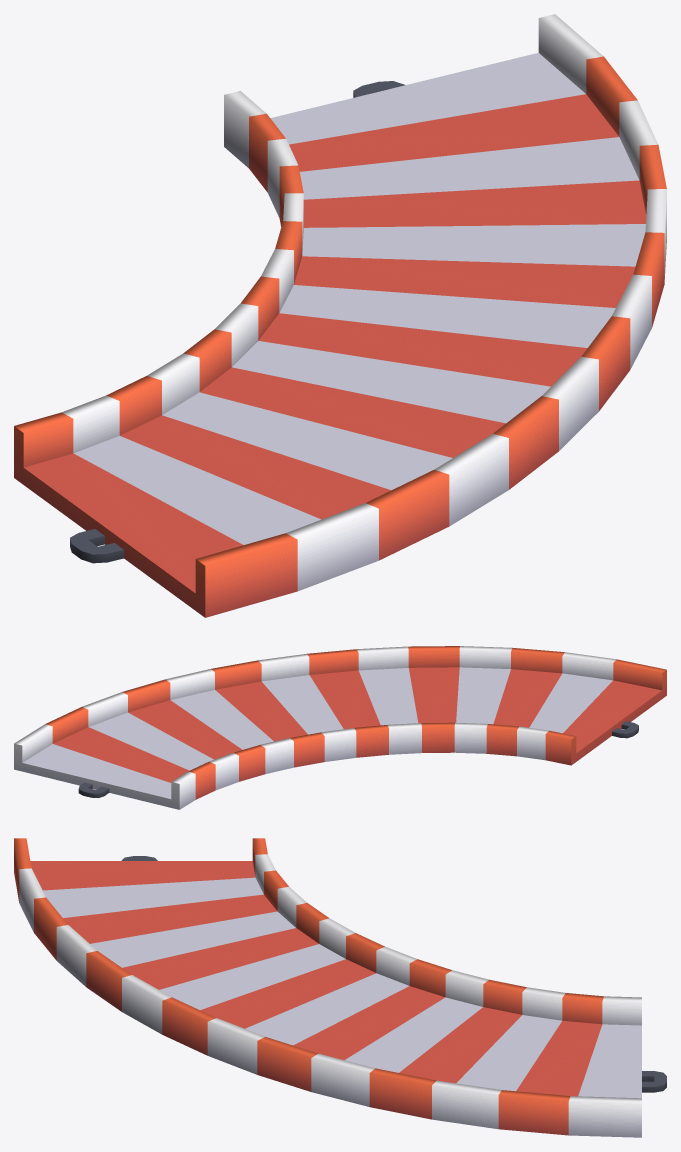
The model's file is track-striped-wide-corner-large.glb.
The picture shows the model from 3 angles, top to bottom: view 1: azimuth 30°, elevation 25°; view 2: azimuth 150°, elevation 25°; view 3: azimuth 270°, elevation 25°; orthographic projection. The views are drawn at different scales.
Parts seen in each view (by area): view 1: track-striped-wide-corner-large; view 2: track-striped-wide-corner-large; view 3: track-striped-wide-corner-large.
Part boxes in pixels (bbox=[...]): track-striped-wide-corner-large: bbox=[14, 14, 666, 617]; track-striped-wide-corner-large: bbox=[14, 646, 666, 809]; track-striped-wide-corner-large: bbox=[14, 838, 666, 1137].
Bounding box in the file's own units: 15.6 × 0.9 × 15.6.
Materials: 1 (1 with a texture image).
